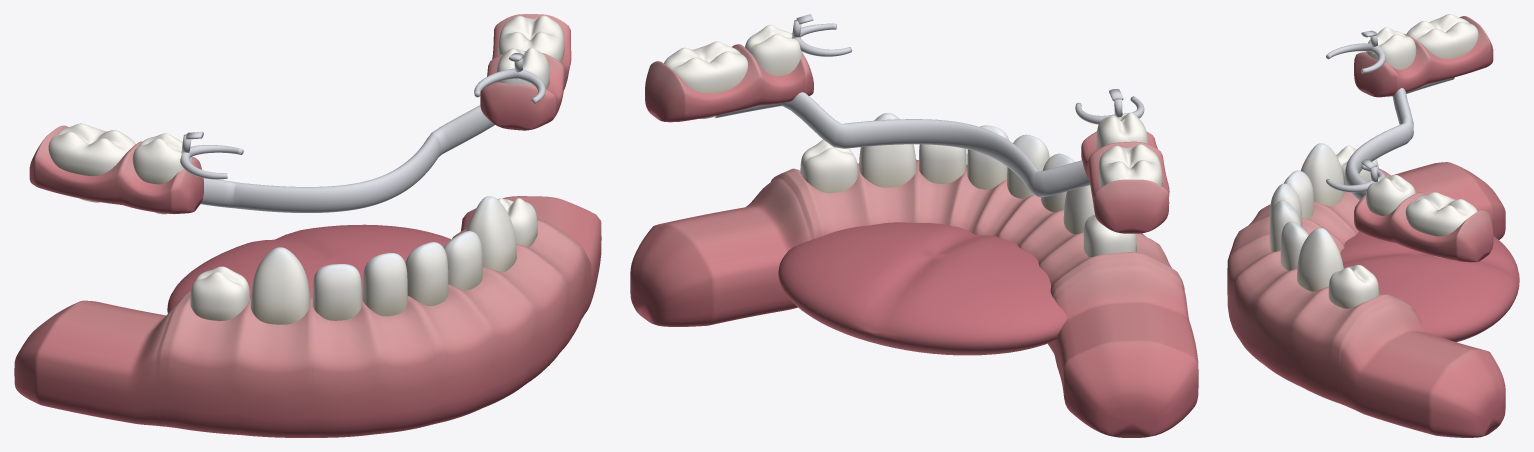
Rendered from ppr-inferior.glb.
3 renders of one model, left to right at view 1: azimuth 30°, elevation 25°; view 2: azimuth 150°, elevation 25°; view 3: azimuth 270°, elevation 25°, orthographic. The views are drawn at different scales.
Visible parts, largest first — view 1: Base, Barra, Lingua, Sela_E, Sela_D, Natural_1, Dente_E0, Natural_0, Natural_6, Natural_3, Natural_2, Natural_4 (+7 smaller); view 2: Base, Lingua, Barra, Sela_D, Sela_E, Dente_D1, Natural_7, Natural_6, Dente_E0, Dente_D0, Natural_5, Natural_0 (+6 smaller); view 3: Base, Lingua, Sela_D, Sela_E, Barra, Dente_D1, Dente_E0, Natural_6, Natural_1, Natural_7, Dente_D0, Dente_E1 (+7 smaller).
Part boxes in pixels (bbox=[...]): Base: bbox=[14, 196, 601, 437]; Barra: bbox=[200, 105, 494, 212]; Lingua: bbox=[167, 224, 451, 313]; Sela_E: bbox=[29, 125, 203, 214]; Sela_D: bbox=[480, 14, 571, 130]; Natural_1: bbox=[250, 247, 309, 324]; Dente_E0: bbox=[48, 123, 135, 202]; Natural_0: bbox=[190, 266, 249, 320]; Natural_6: bbox=[466, 196, 516, 271]; Natural_3: bbox=[362, 253, 407, 316]; Natural_2: bbox=[312, 264, 361, 320]; Natural_4: bbox=[405, 242, 448, 305]; Base: bbox=[630, 159, 1198, 437]; Lingua: bbox=[778, 222, 1066, 355]; Barra: bbox=[714, 92, 1090, 197]; Sela_D: bbox=[645, 44, 813, 122]; Sela_E: bbox=[1081, 131, 1169, 233]; Dente_D1: bbox=[664, 41, 747, 118]; Natural_7: bbox=[800, 140, 858, 193]; Natural_6: bbox=[859, 113, 916, 187]; Dente_E0: bbox=[1098, 144, 1162, 188]; Dente_D0: bbox=[745, 24, 802, 75]; Natural_5: bbox=[919, 144, 966, 183]; Natural_0: bbox=[1083, 214, 1136, 257]; Base: bbox=[1227, 162, 1505, 437]; Lingua: bbox=[1340, 231, 1519, 342]; Sela_D: bbox=[1354, 192, 1493, 262]; Sela_E: bbox=[1354, 16, 1493, 97]; Barra: bbox=[1345, 77, 1454, 200]; Dente_D1: bbox=[1405, 192, 1477, 258]; Dente_E0: bbox=[1406, 14, 1478, 58]; Natural_6: bbox=[1296, 227, 1343, 291]; Natural_1: bbox=[1300, 143, 1344, 206]; Natural_7: bbox=[1328, 264, 1378, 308]; Dente_D0: bbox=[1366, 175, 1415, 215]; Dente_E1: bbox=[1366, 27, 1416, 69].
Bounding box in the file's own units: 0.0617 × 0.0292 × 0.0332.
